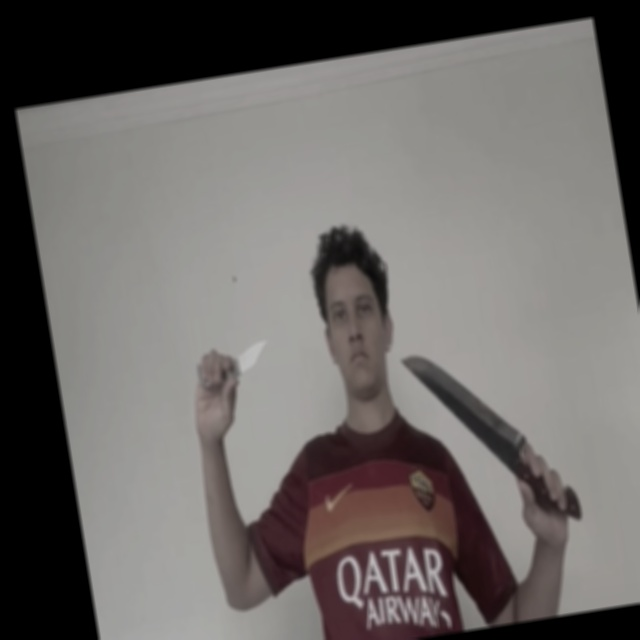Sharp-Object: (399, 341, 527, 460), (234, 342, 271, 376)
